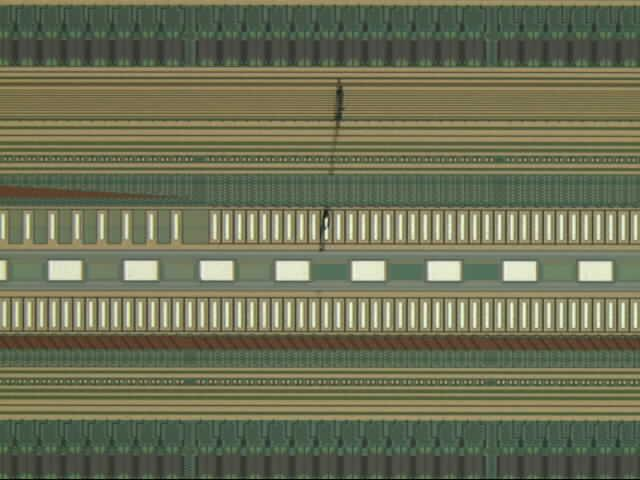SCRATCH: (314, 59, 352, 268)
